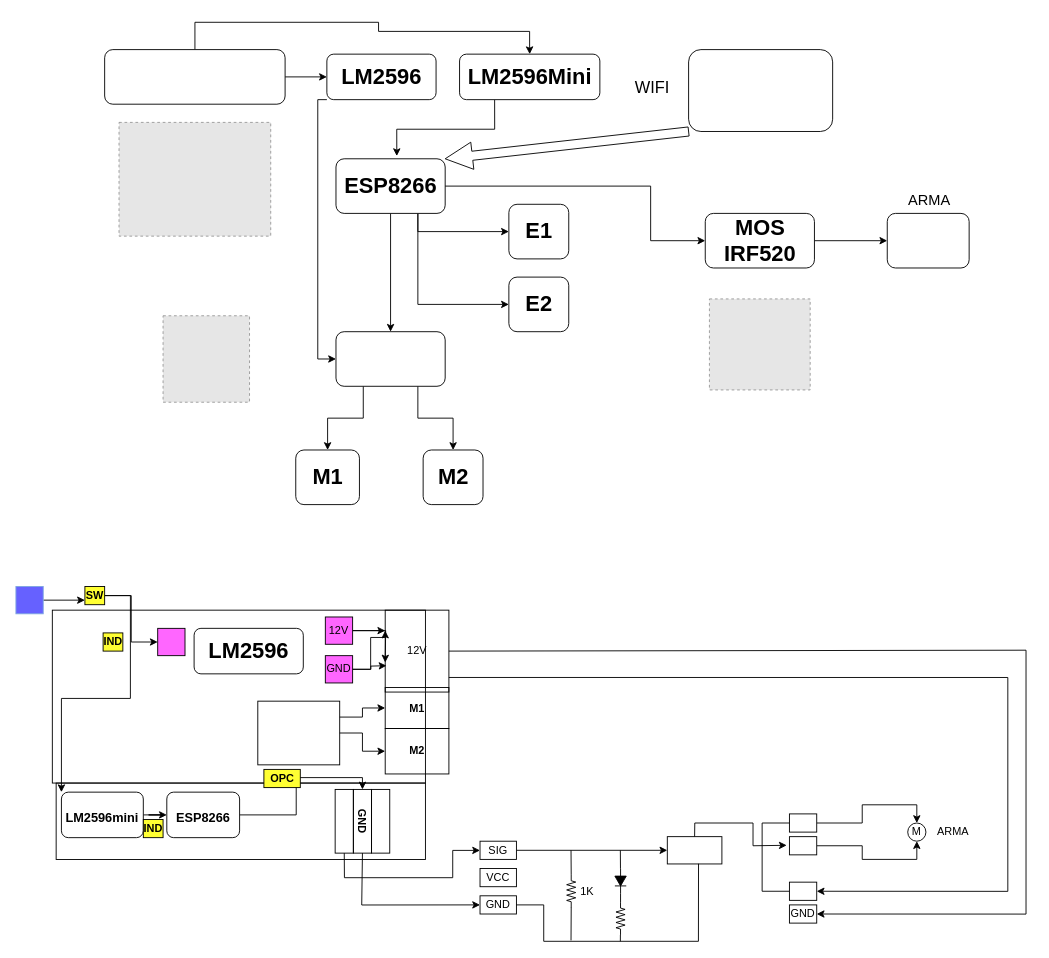
Some shapes in this 1049 by 958 pixel diagram are drawn without their labels. Grey dashed boxes stand in for pictures. Here are the shapes that lost their labels. From the top down, the box of each, then its label:
(104, 49, 285, 104): Lipo 11.1V 1300-1500mAh
(688, 49, 833, 131): Controller Iphone (RemoteXY)
(886, 212, 969, 268): DC ZGA37RG
(335, 331, 445, 386): Puente H TB6612
(15, 586, 43, 614): BAT
(157, 627, 185, 656): Vbat
(257, 700, 340, 765): TB6612
(334, 789, 353, 853): PINES
(371, 789, 390, 853): 5V
(789, 813, 817, 832): V1
(666, 836, 722, 864): IRF520N
(789, 836, 817, 855): V2
(789, 881, 817, 900): VIN
